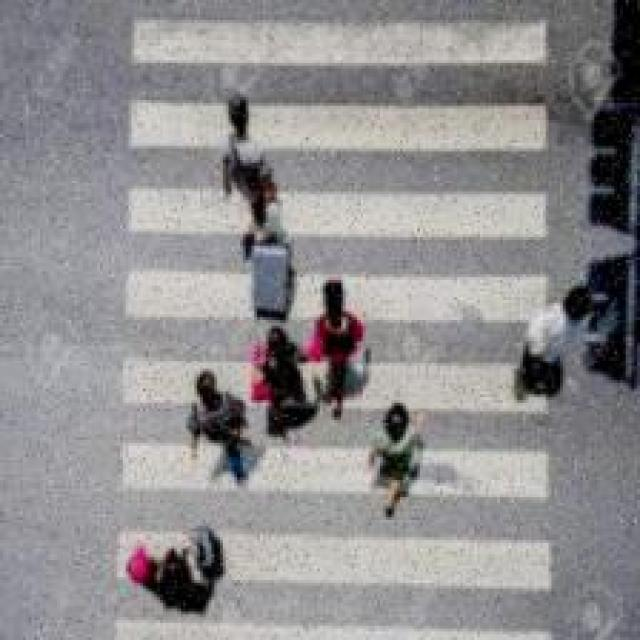crosswalk: (125, 7, 550, 640)
